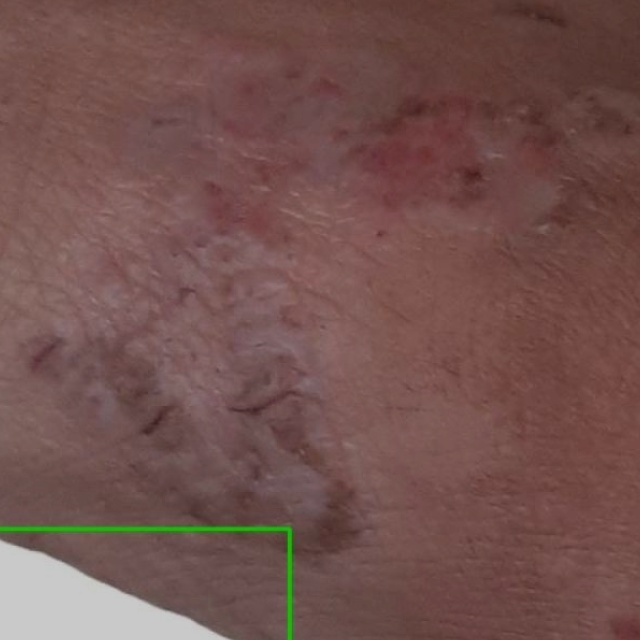Contact Dermatitis: (0, 528, 289, 639)
